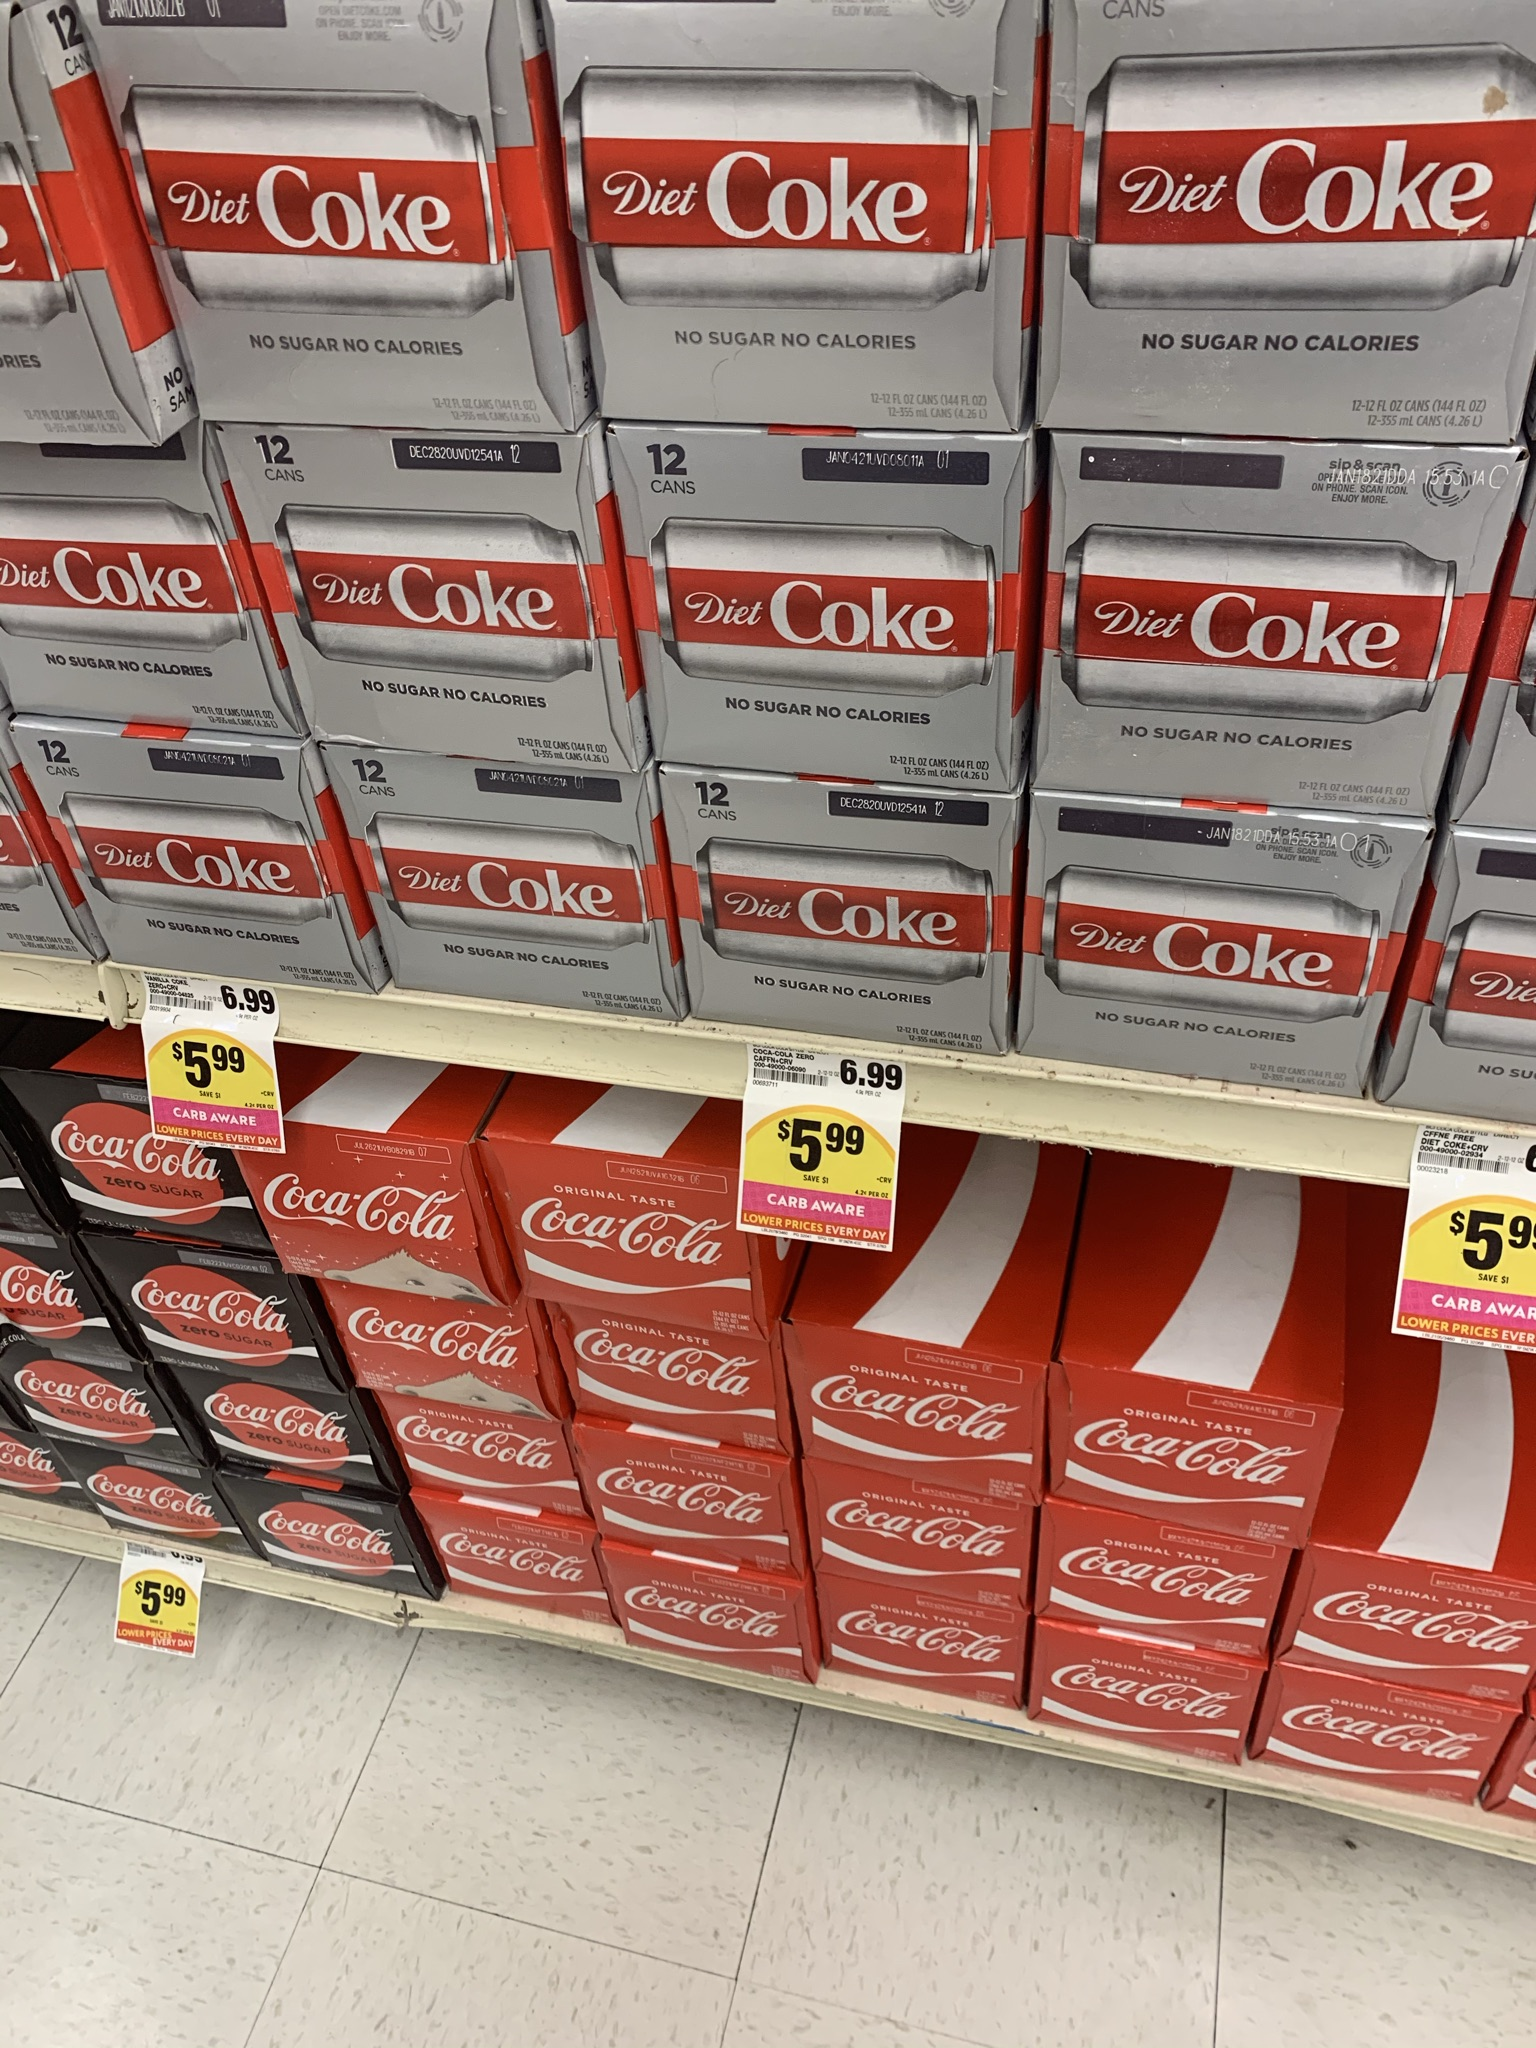coke soda: (39, 1097, 587, 1621), (1070, 10, 1517, 455), (115, 10, 573, 431), (574, 11, 1013, 416), (489, 1150, 821, 1666), (599, 426, 1007, 792), (1052, 461, 1467, 821), (202, 435, 632, 761), (1029, 839, 1384, 1105), (23, 729, 361, 976), (682, 810, 1013, 1055), (1049, 1374, 1239, 1750), (361, 779, 671, 1005), (792, 1335, 1052, 1511), (1307, 1566, 1536, 1716), (1317, 1566, 1375, 1605), (812, 1480, 815, 1488)
